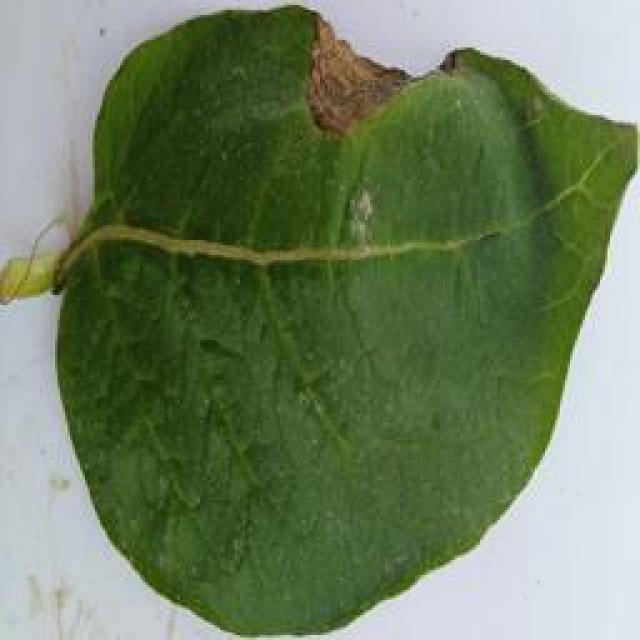Potato_Late_Blight: (20, 11, 632, 638)
